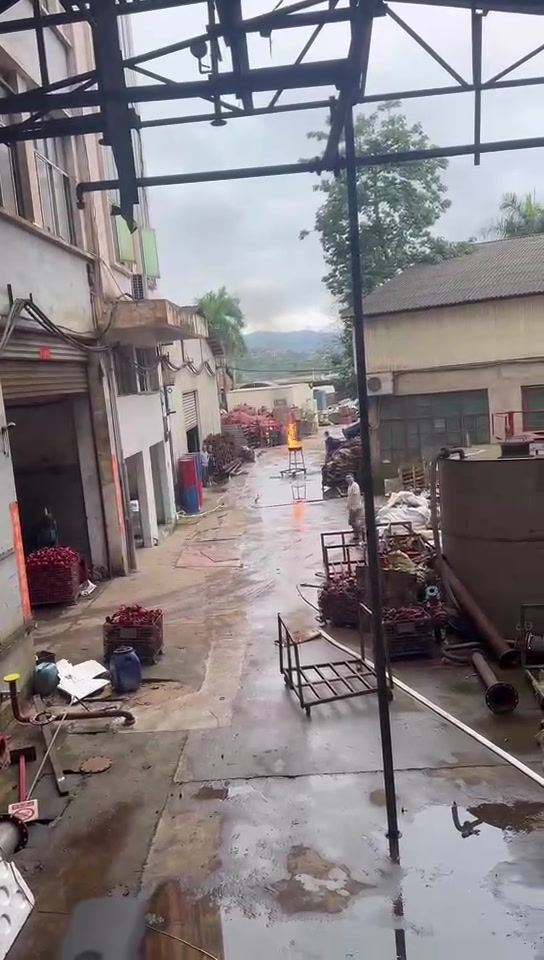fire: (284, 421, 301, 449)
